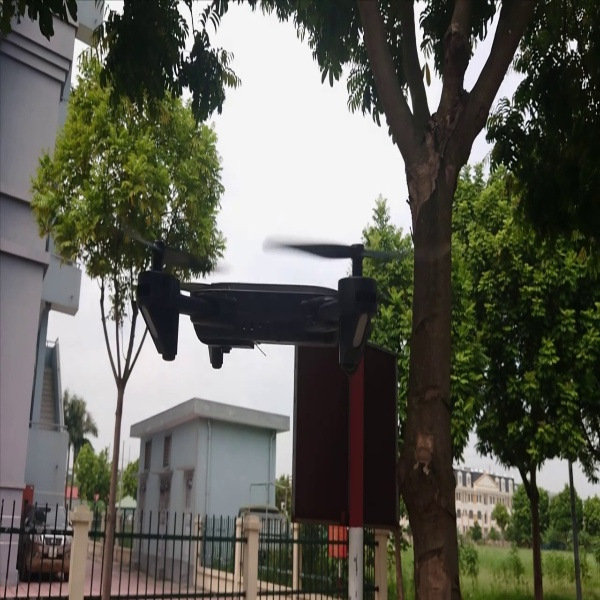drone: (99, 238, 401, 378)
